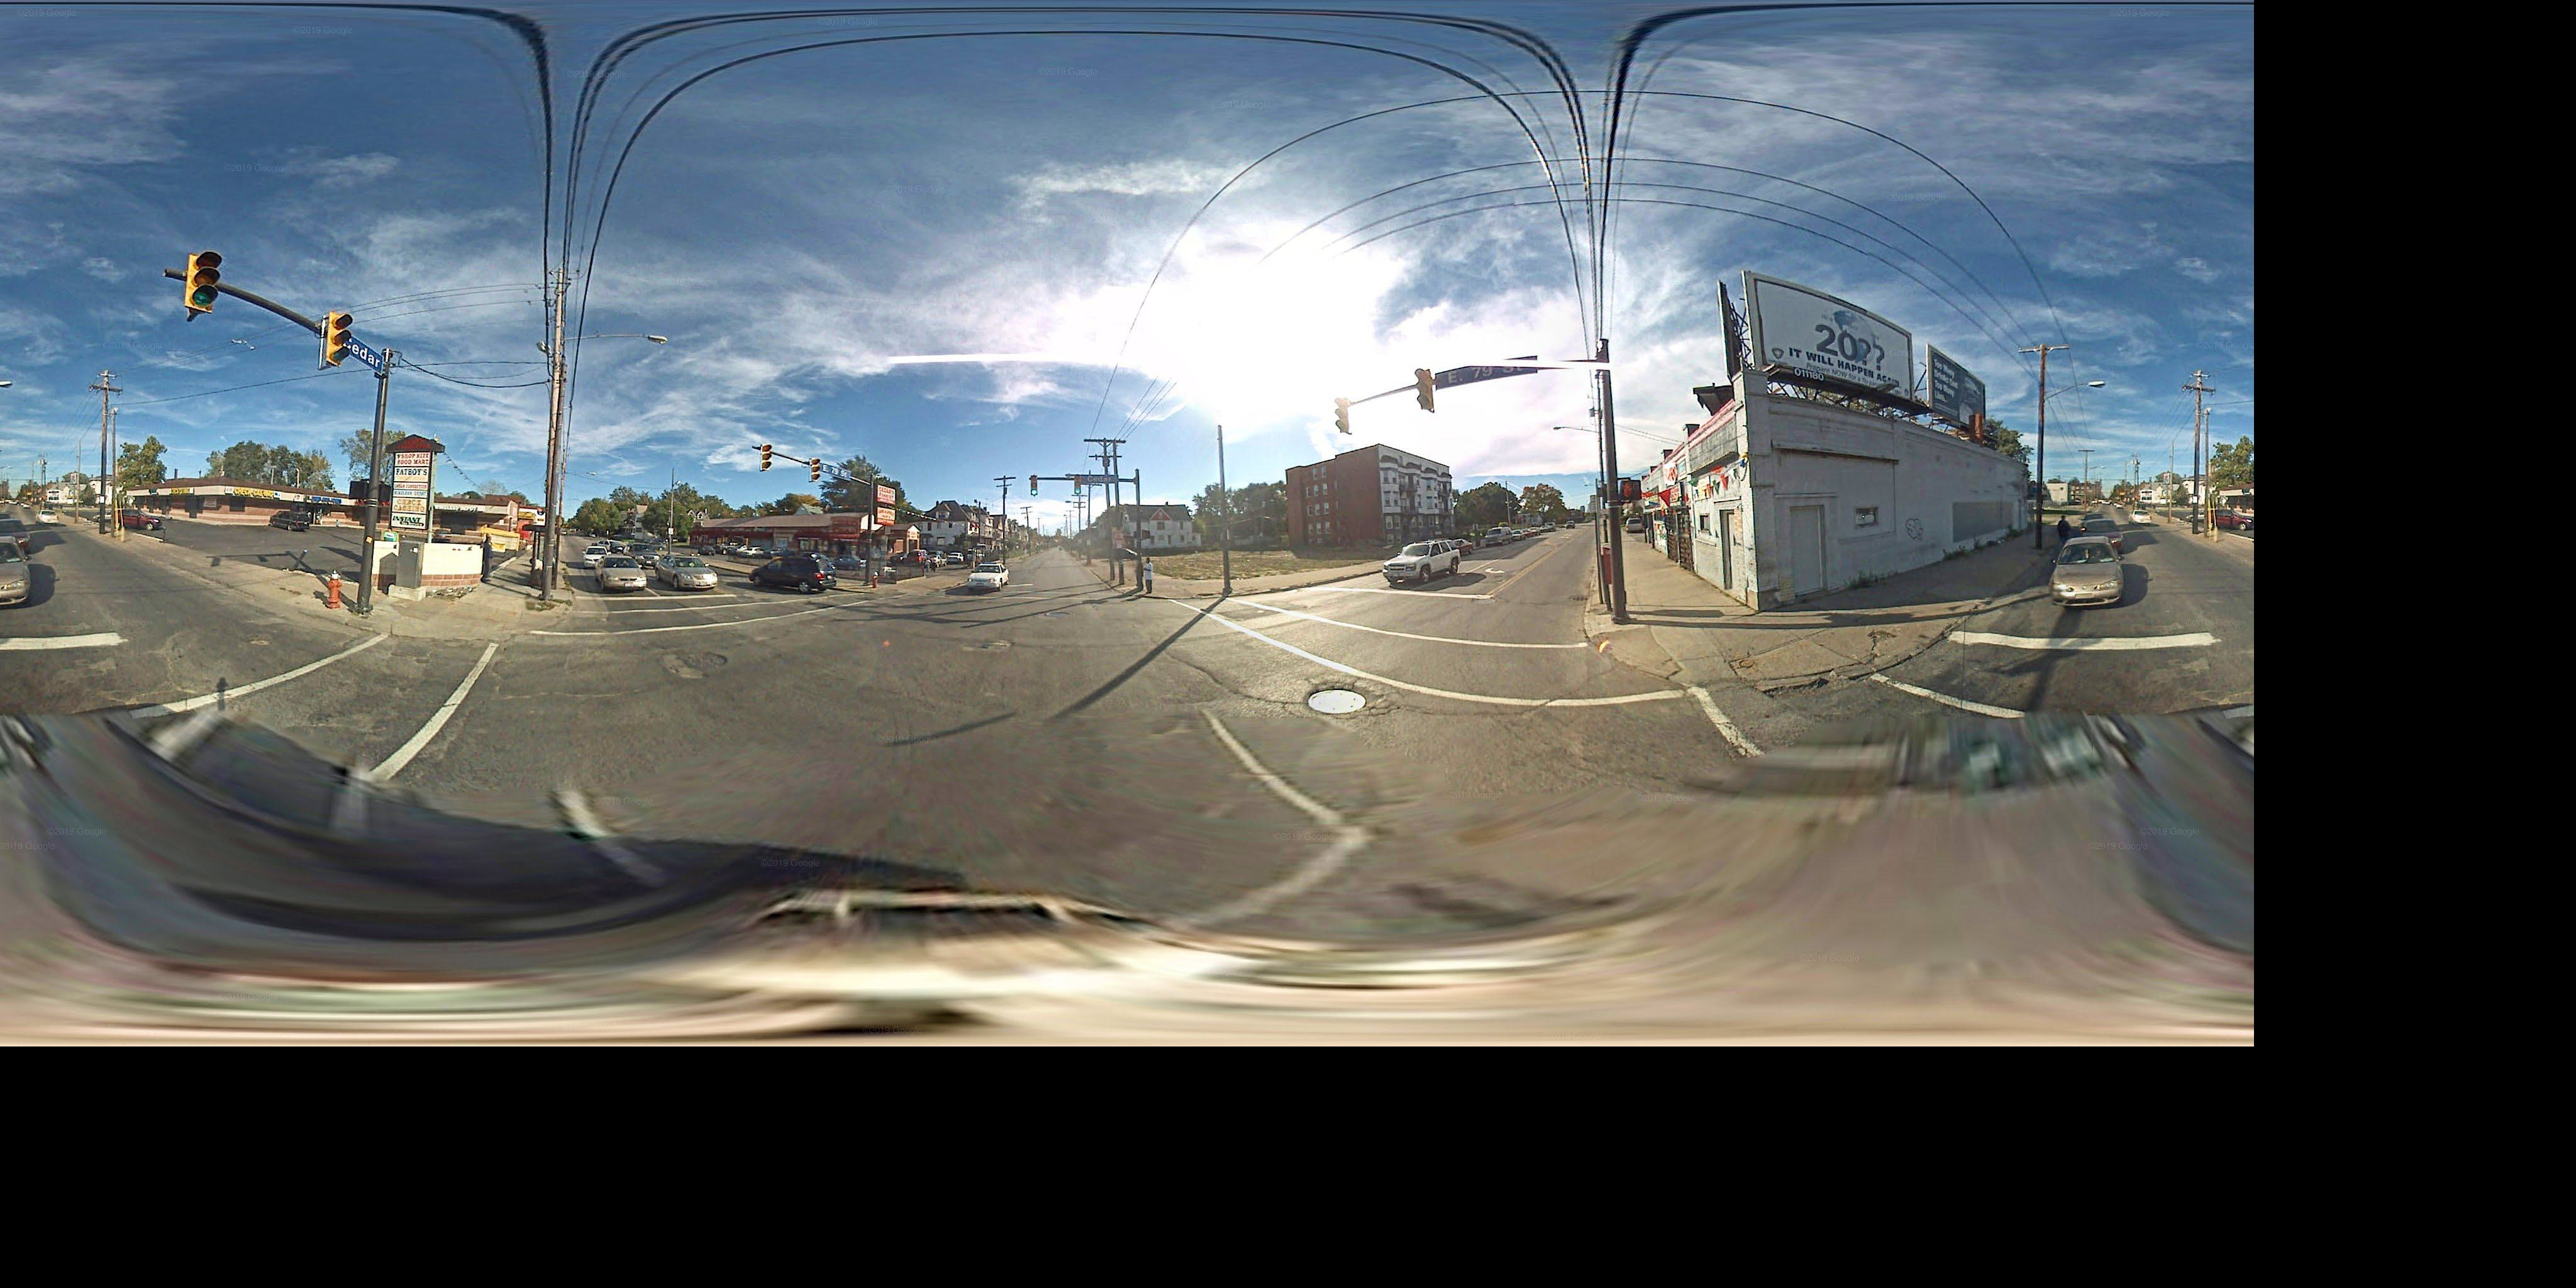Curb Ramp: (1594, 623, 1686, 695), (398, 606, 496, 660), (509, 598, 572, 647)
Irregular Ramp: (1710, 639, 1860, 718), (1171, 585, 1221, 605)
